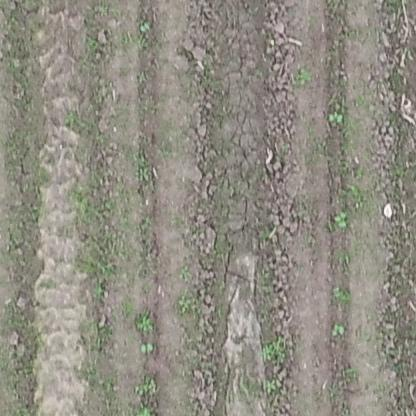vc: (332, 208, 348, 231), (327, 108, 345, 127), (331, 319, 346, 337), (138, 343, 156, 352)
